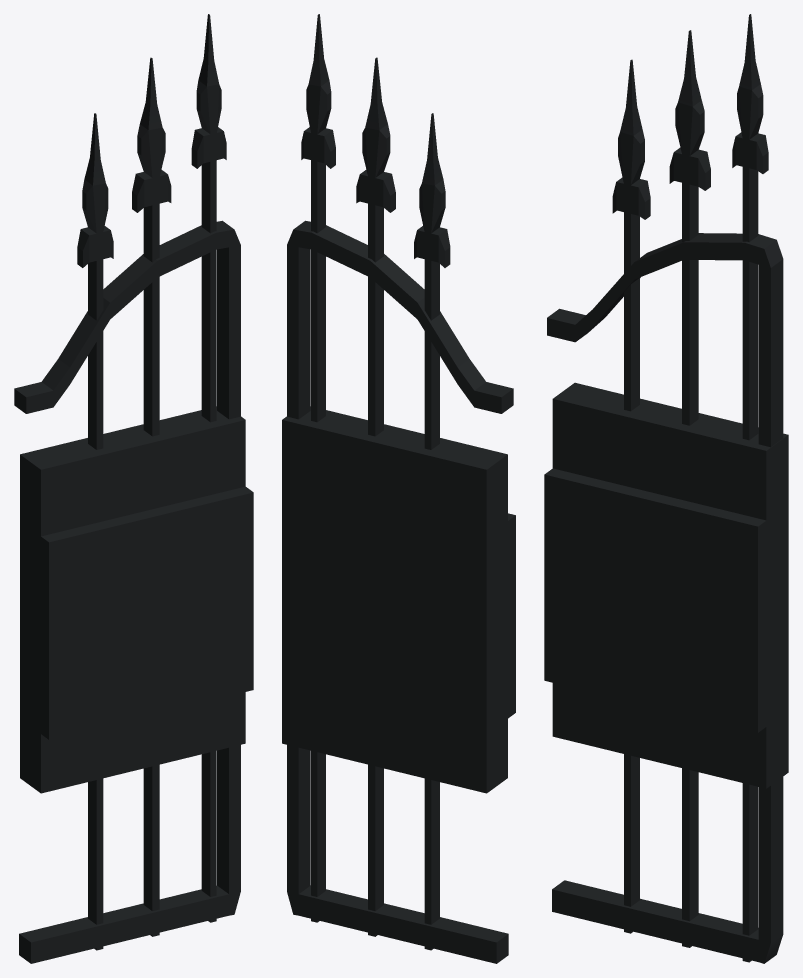
Rendered from CemeteryDoor.fbx.
3 renders of one model, left to right at view 1: azimuth 30°, elevation 25°; view 2: azimuth 150°, elevation 25°; view 3: azimuth 330°, elevation 25°, orthographic. The views are drawn at different scales.
Visible parts, largest first — view 1: GraveDoor2; view 2: GraveDoor2; view 3: GraveDoor2.
Boxes of the visible parts, x1=… form: GraveDoor2: x1=14, y1=14, x2=253, y2=963; GraveDoor2: x1=282, y1=14, x2=515, y2=963; GraveDoor2: x1=544, y1=14, x2=788, y2=963.
Bounding box in the file's own units: 1.79 × 7.2 × 0.4196.
